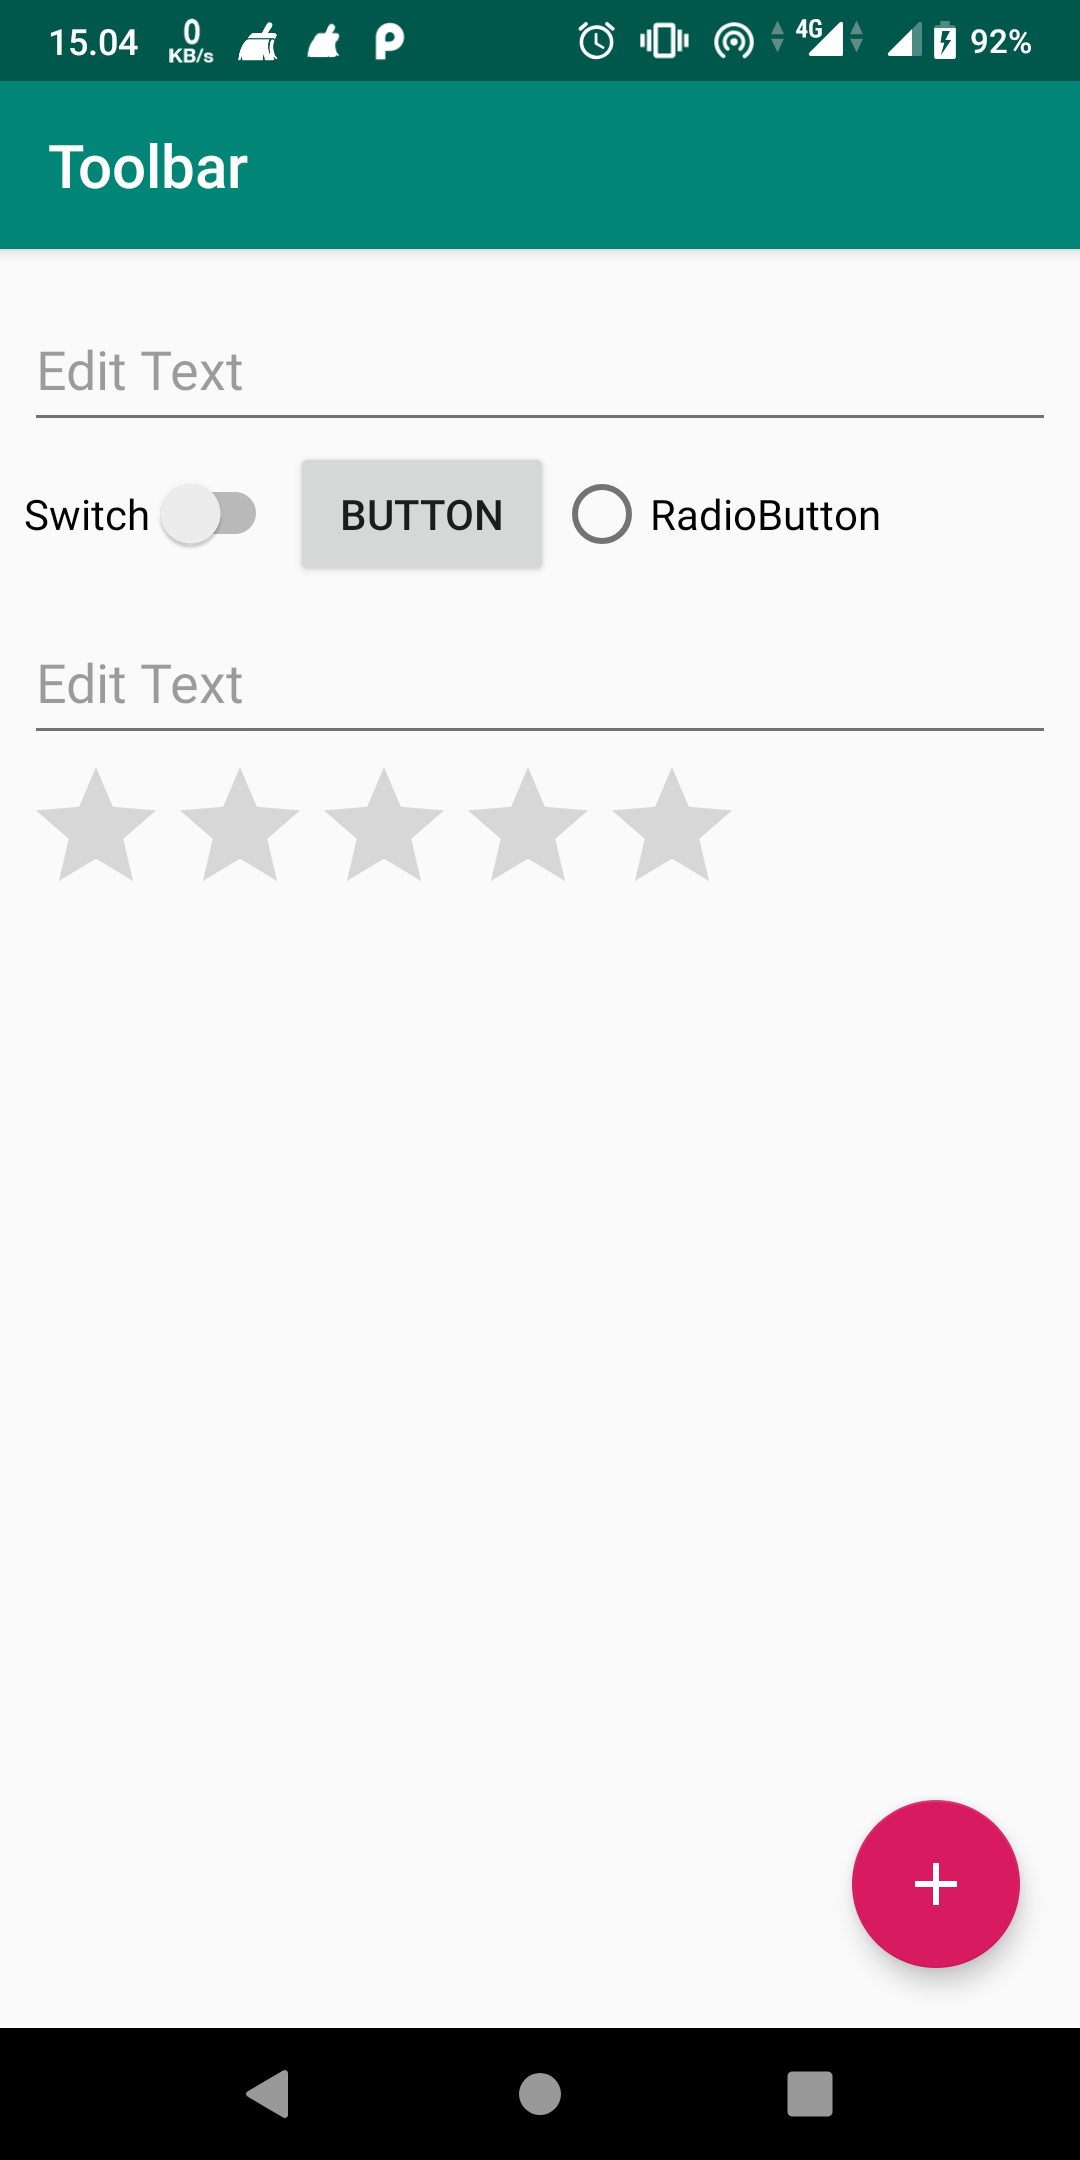button: (291, 448, 555, 583)
editText: (23, 331, 1055, 438), (23, 641, 1052, 748)
floatingButton: (843, 1787, 1030, 1984)
radioButton: (562, 470, 897, 554)
ratingBar: (36, 760, 726, 895)
switch: (14, 477, 276, 551)
toolbar: (1, 83, 1080, 248)
